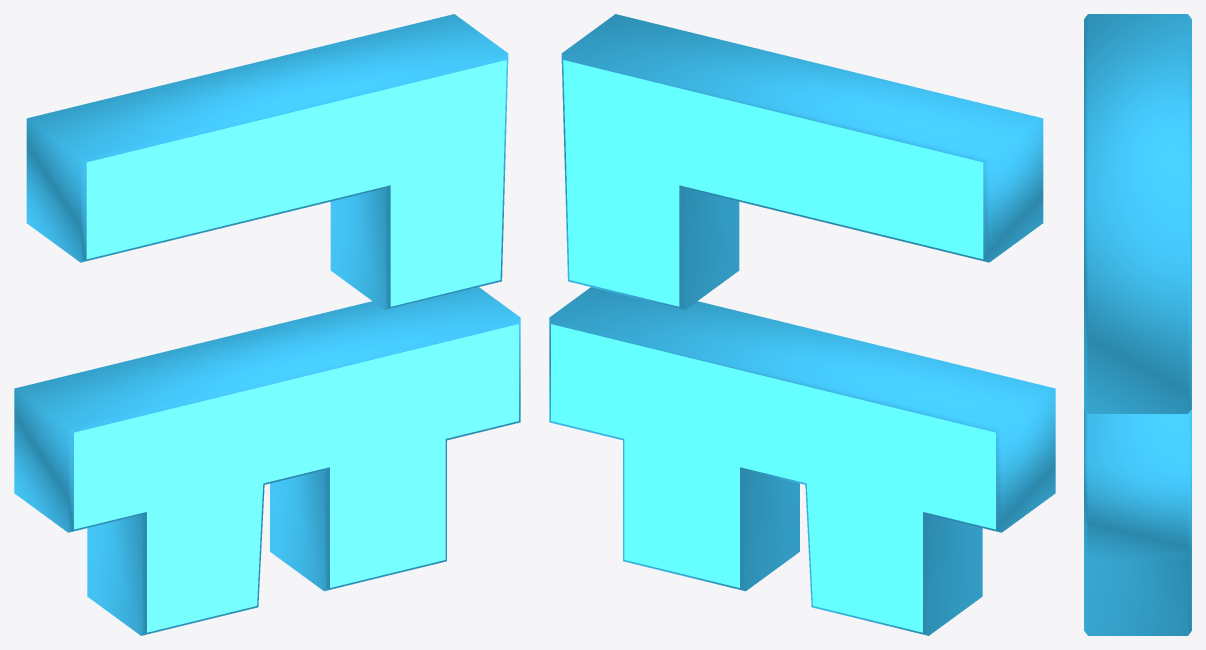
File: u_addc_b.glb
3 views of the same model, side by side, from view 1: azimuth 30°, elevation 25°; view 2: azimuth 150°, elevation 25°; view 3: azimuth 270°, elevation 25° (orthographic). The views are drawn at different scales.
Parts seen in each view (by area): view 1: glyph; view 2: glyph; view 3: glyph.
Part boxes in pixels (bbox=[...]): glyph: bbox=[14, 14, 520, 635]; glyph: bbox=[549, 14, 1055, 635]; glyph: bbox=[1084, 14, 1191, 635].
Bounding box in the file's own units: 0.0726 × 0.0756 × 0.0162.
